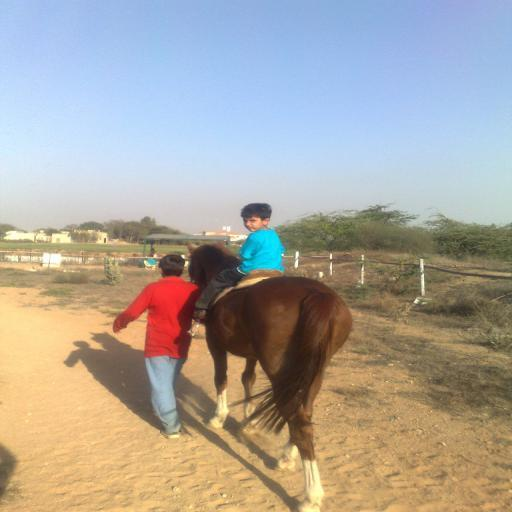horse: (188, 236, 356, 512)
